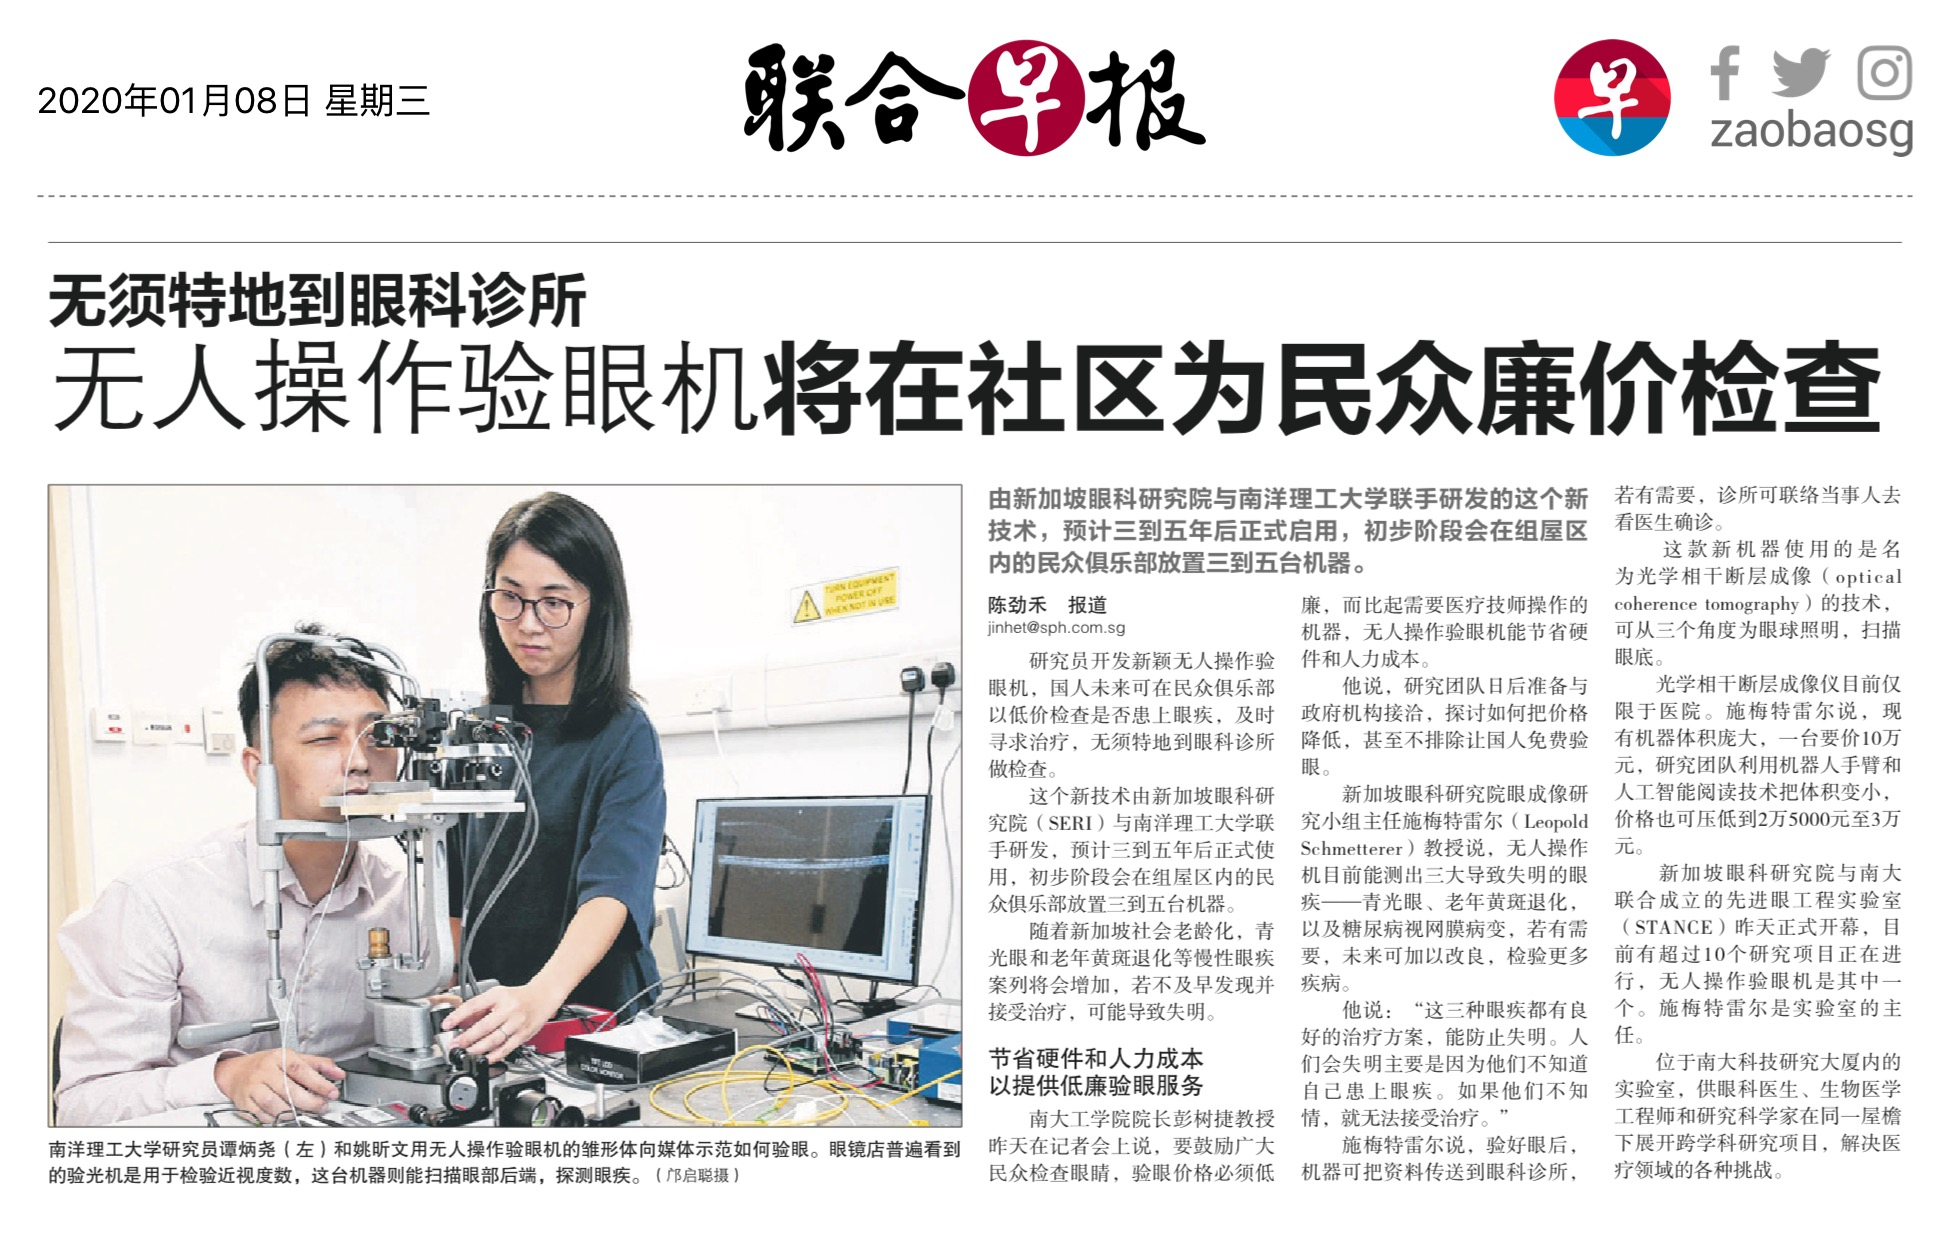heading: (45, 331, 1900, 446)
